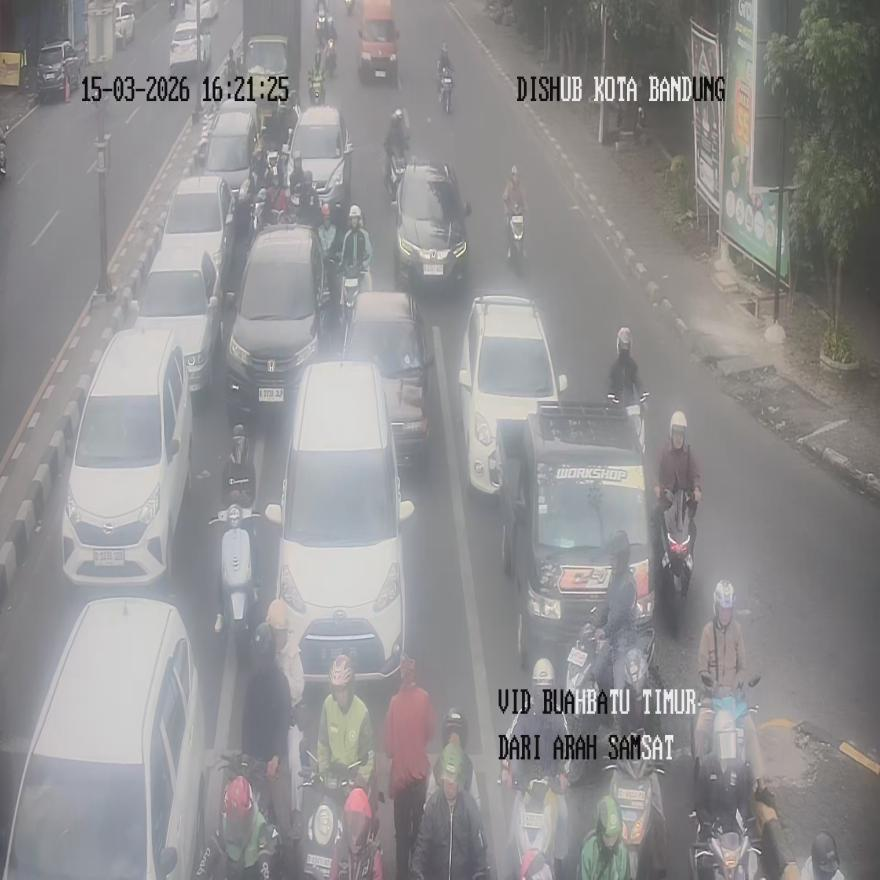Mobil: (0, 596, 206, 877), (266, 361, 413, 683), (501, 400, 652, 671), (61, 327, 192, 585), (459, 294, 566, 495), (224, 222, 330, 415), (343, 290, 434, 463), (136, 242, 221, 398), (393, 159, 471, 288)
Motor: (564, 613, 656, 770), (604, 743, 666, 879), (298, 751, 363, 879), (208, 501, 259, 650), (500, 758, 562, 880), (217, 770, 280, 879), (655, 488, 697, 624), (690, 807, 762, 880), (607, 391, 649, 456), (341, 263, 369, 346), (504, 201, 524, 271), (385, 150, 405, 201), (438, 70, 453, 113), (324, 37, 336, 78)
